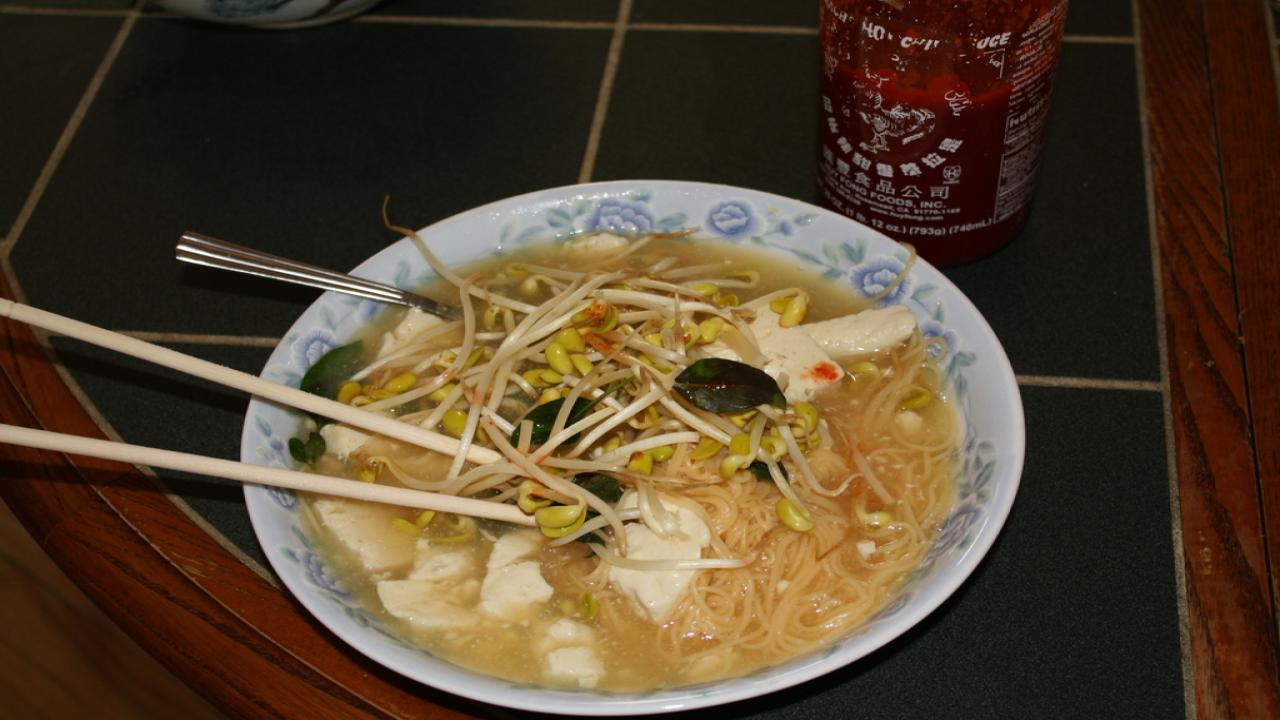chopstick: (0, 298, 544, 526)
